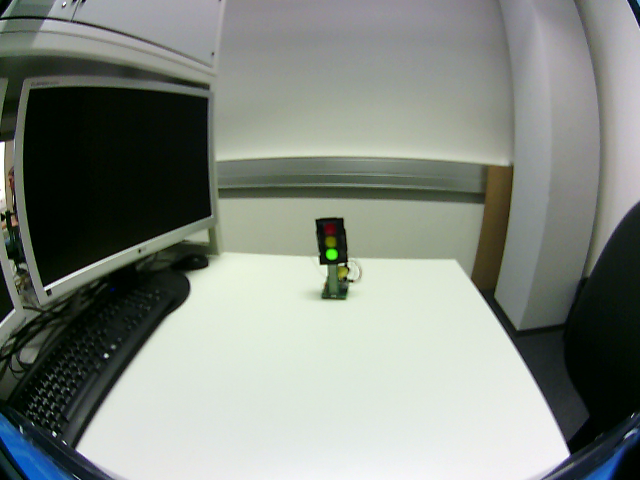green trafficlight: (320, 219, 345, 262)
